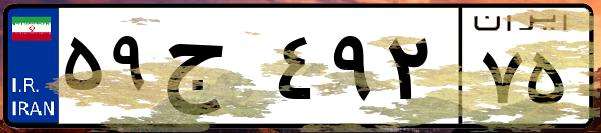2: (385, 28, 445, 110)
4: (270, 28, 330, 110)
5: (57, 26, 110, 100), (525, 38, 570, 115)
7: (475, 38, 525, 113)
9: (330, 28, 385, 110), (110, 28, 158, 98)
ج: (158, 20, 270, 120)
